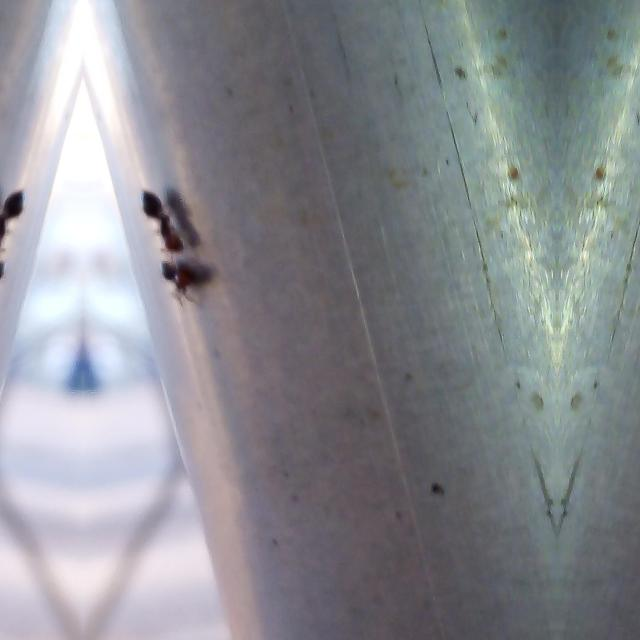Crematogaster: (138, 183, 192, 255), (156, 250, 200, 302), (0, 183, 26, 255)
